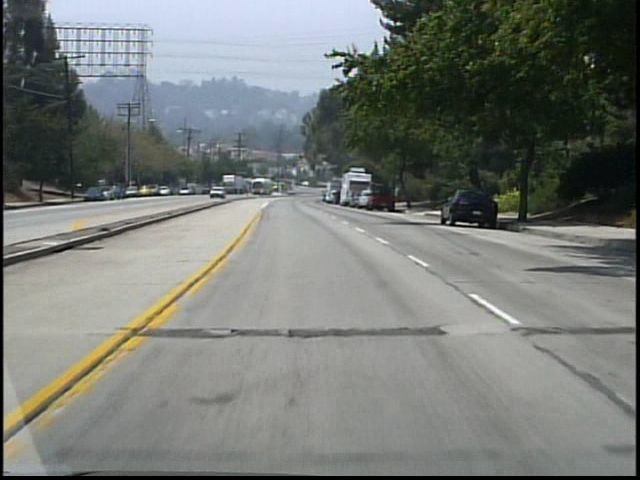person: (389, 183, 401, 209)
